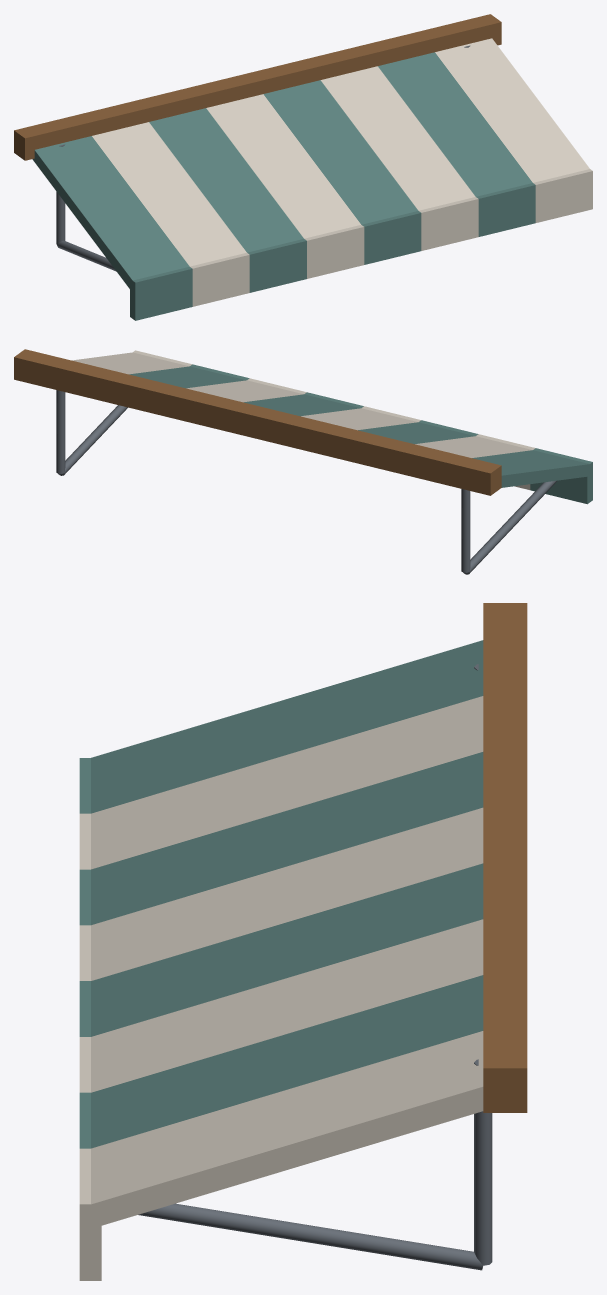
File: komachi-awning.glb
3 views of the same model, one above another, from view 1: azimuth 30°, elevation 25°; view 2: azimuth 150°, elevation 25°; view 3: azimuth 270°, elevation 25° (orthographic). The views are drawn at different scales.
Parts seen in each view (by area): view 1: Striped_Awning; view 2: Striped_Awning; view 3: Striped_Awning.
Part boxes in pixels (x1=…): Striped_Awning: x1=14, y1=14, x2=592, y2=320; Striped_Awning: x1=14, y1=349, x2=592, y2=574; Striped_Awning: x1=79, y1=603, x2=527, y2=1280.
Bounding box in the file's own units: 0.6 × 0.1424 × 0.244.
